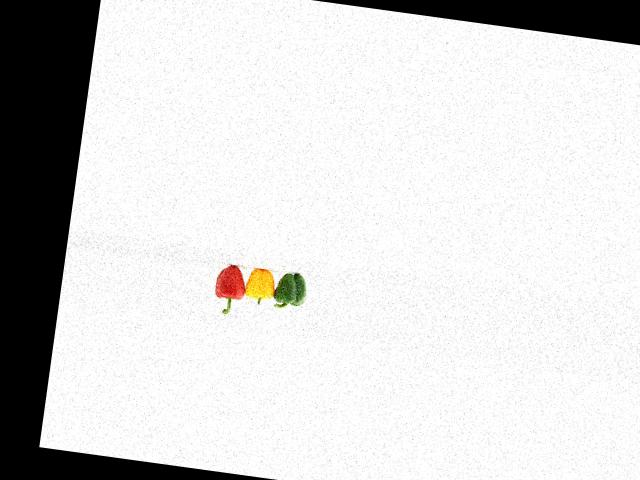bell_pepper: (202, 257, 252, 320)
